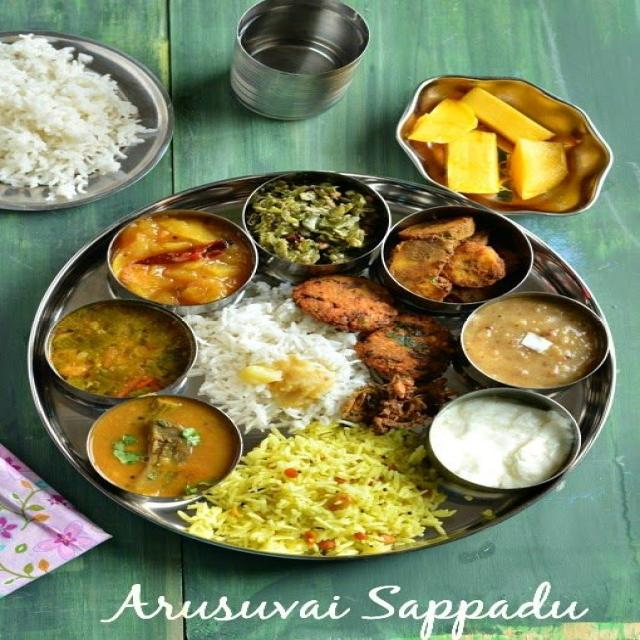veg meals: (19, 164, 632, 572)
